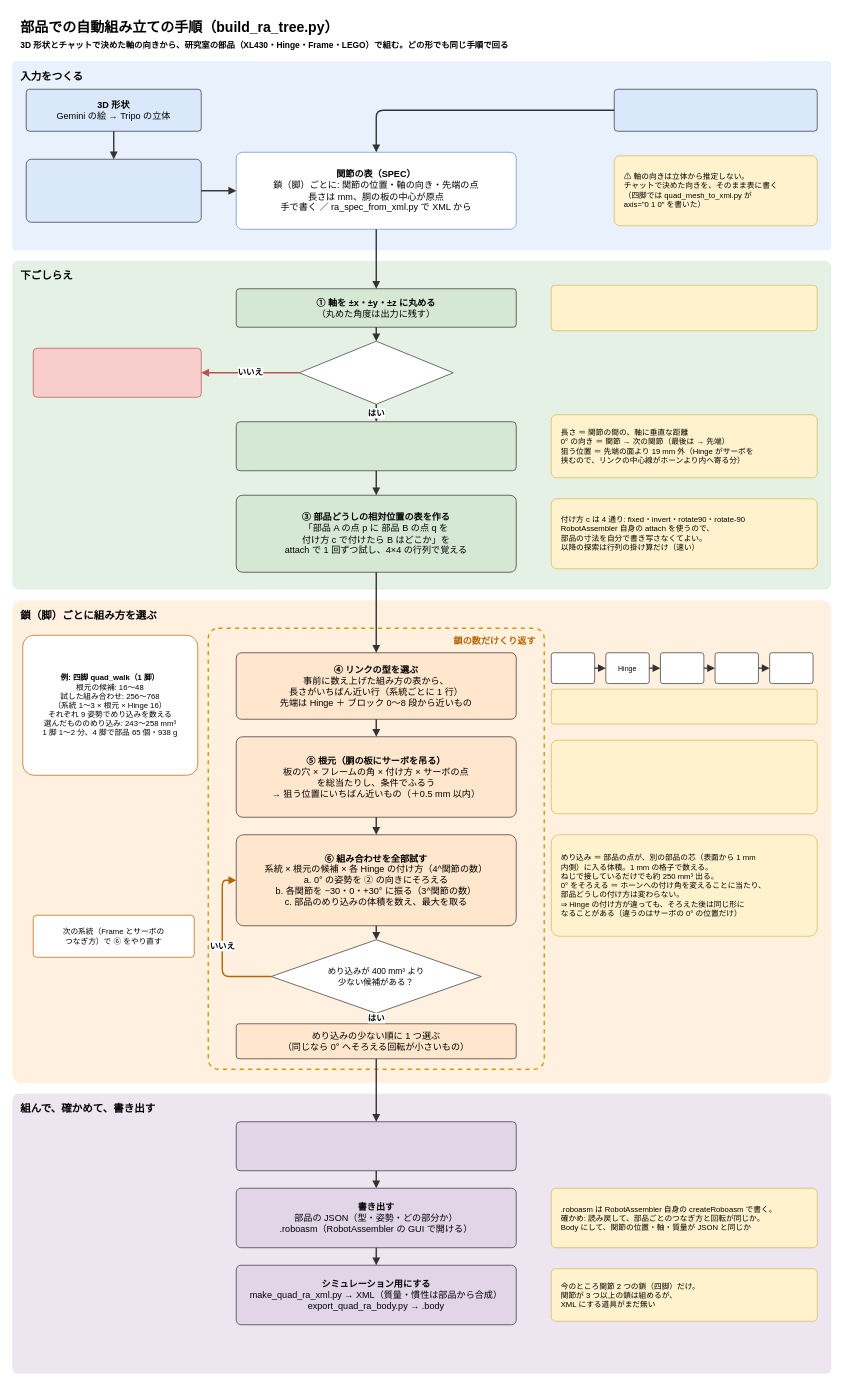
The diagram is 843 pixels wide and 1385 high, and some of its shapes have lost their labels. The shapes that lost their labels are listed below. From the top down, each one's centre as x and y in pixels, then its label:
At (715,110): "チャットで決めた軸の向き 例「股も膝も左右の水平軸」".
At (113,190): "マゼンタの球を探す 球の中心 → 関節の位置 断面 → リンクの太さ・先端 segment_quad_mesh.py".
At (684,308): "部品は直角にしかつながらないので、斜めの軸は作れない。 ホーン（サーボの回る面）は胴の外を向く側にする".
At (117,372): "止める 直交の軸の鎖はまだ扱えない （四脚の x42 で組めなかった）".
At (376,372): "鎖の中の隣り合う 軸は平行？".
At (376,446): "② 長さ・0° の向き・根元の狙う位置を出す".
At (573,668): "サーボ （ホーン）".
At (682,668): "LEGO の段".
At (736,668): "Frame".
At (791,668): "次の サーボ".
At (684,706): "表の必須条件: 前後の軸が平行・LEGO はポッチを全部覆う・ 段の継ぎ目を直交（レンガ積み）。系統 ＝ Frame とサーボのつなぎ方".
At (684,777): "残す条件: ・フレームのポッチが全部、板の穴に入る ・ホーンの軸が ① の向き ・サーボが板の下 側面の外に出すときは板（plate_4_8）を 1 枚はさむ".
At (376,1146): "⑦ 本物の attach で組み直す 関節の間が表と 0.2 mm 以内・軸が平行かを確かめる".
